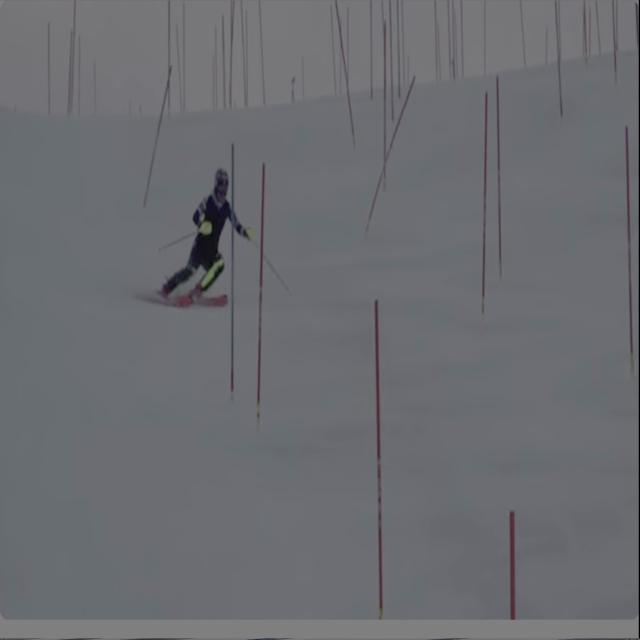gate: (212, 134, 245, 422), (611, 123, 640, 364), (486, 77, 515, 281), (248, 154, 268, 446), (468, 75, 491, 317)
